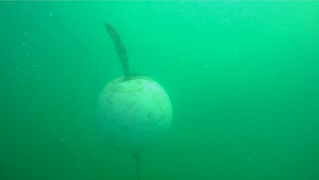buoy: (92, 74, 174, 155)
